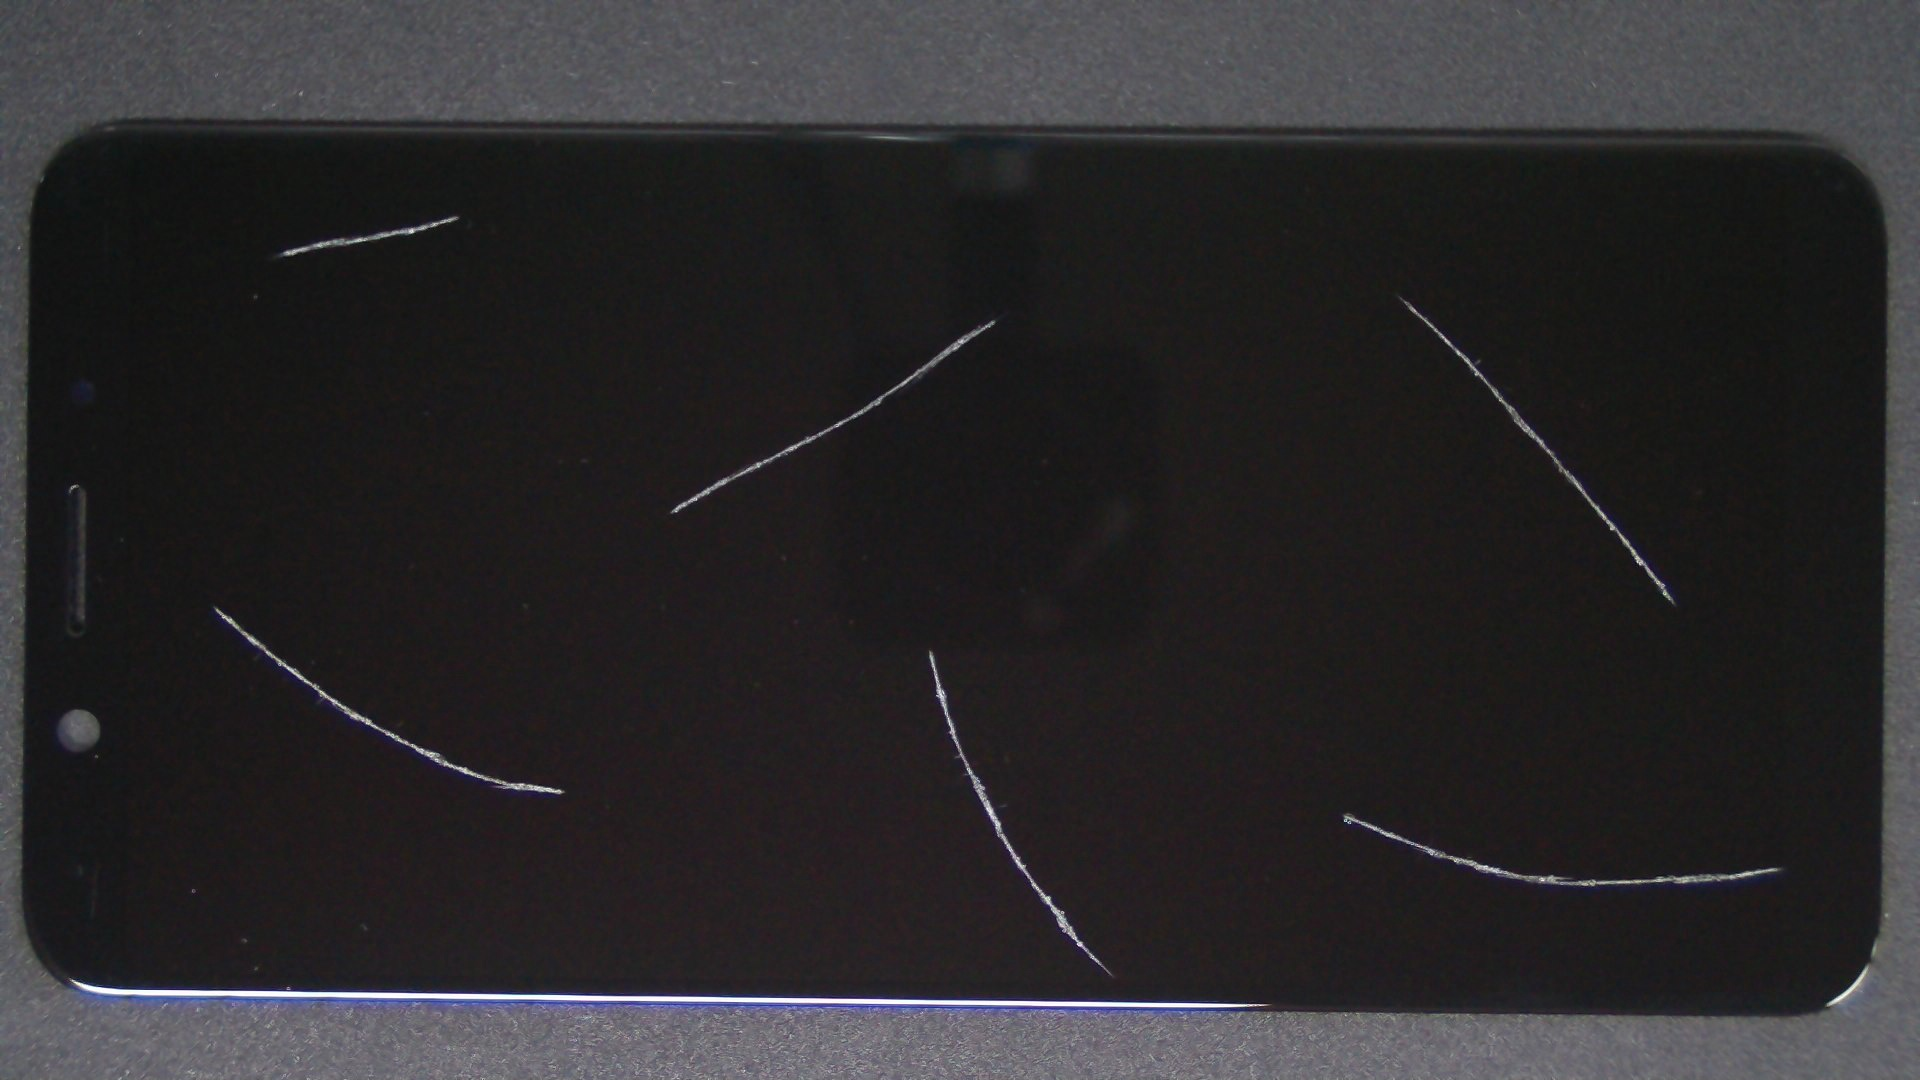oil: (673, 406, 1920, 1080), (464, 323, 1393, 976), (702, 146, 1920, 443), (497, 160, 1490, 479), (105, 299, 318, 909), (228, 107, 682, 323)
